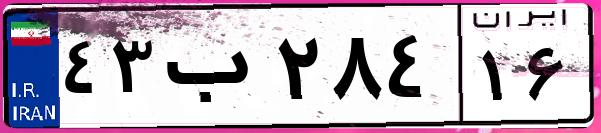1: (475, 38, 525, 113)
2: (270, 28, 330, 110)
3: (110, 28, 158, 98)
4: (385, 28, 445, 110), (57, 26, 110, 100)
6: (525, 38, 570, 115)
8: (330, 28, 385, 110)
ب: (158, 20, 270, 120)
